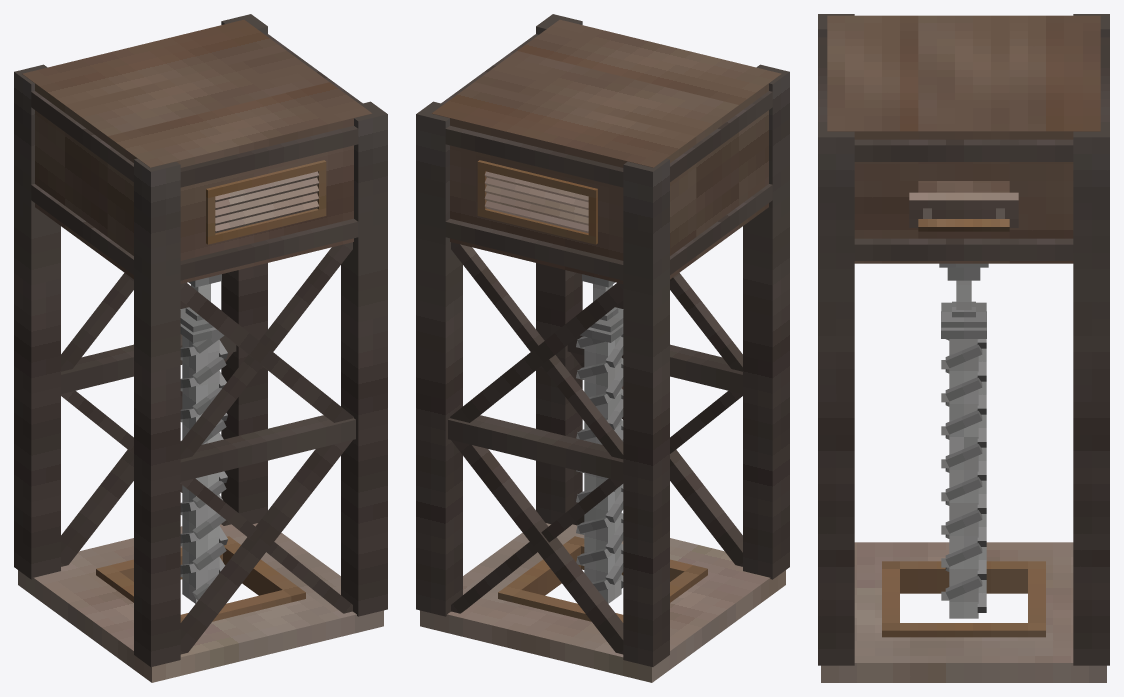
File: tiny_mining_drill.obj
3 renders of one model, left to right at view 1: azimuth 30°, elevation 25°; view 2: azimuth 150°, elevation 25°; view 3: azimuth 270°, elevation 25°, orthographic. The views are drawn at different scales.
Parts seen in each view (by area): view 1: pillarLeft1, pillarLeft0, base1, pillarRight1, ground0, base2, base0, pillarRight0, pillarLeft6, pillarLeft2, pillarLeft3, Drill0 (+22 smaller); view 2: pillarRight1, pillarRight0, base2, pillarLeft1, ground0, base1, base0, pillarLeft0, pillarRight3, pillarRight4, pillarRight6, Drill0 (+22 smaller); view 3: pillarLeft0, pillarRight0, ground0, base1, base2, base0, Drill0, support0, support1, ground3, door2, ground1 (+18 smaller).
Boxes of the visible parts, x1=… form: pillarLeft1: x1=134, y1=158, x2=180, y2=666; pillarLeft0: x1=341, y1=101, x2=387, y2=616; base1: x1=107, y1=82, x2=371, y2=283; pillarRight1: x1=14, y1=64, x2=60, y2=579; ground0: x1=18, y1=523, x2=383, y2=682; base2: x1=22, y1=19, x2=286, y2=228; base0: x1=65, y1=51, x2=329, y2=182; pillarRight0: x1=221, y1=14, x2=267, y2=524; pillarLeft6: x1=180, y1=417, x2=353, y2=654; pillarLeft2: x1=180, y1=415, x2=355, y2=481; pillarLeft3: x1=180, y1=242, x2=352, y2=459; Drill0: x1=182, y1=335, x2=219, y2=603; pillarRight1: x1=623, y1=158, x2=669, y2=666; pillarRight0: x1=416, y1=101, x2=462, y2=616; base2: x1=432, y1=82, x2=696, y2=283; pillarLeft1: x1=743, y1=64, x2=789, y2=579; ground0: x1=420, y1=523, x2=785, y2=682; base1: x1=517, y1=19, x2=781, y2=228; base0: x1=474, y1=51, x2=738, y2=182; pillarLeft0: x1=536, y1=14, x2=582, y2=524; pillarRight3: x1=450, y1=417, x2=623, y2=654; pillarRight4: x1=448, y1=415, x2=623, y2=481; pillarRight6: x1=451, y1=242, x2=623, y2=459; Drill0: x1=584, y1=335, x2=621, y2=603; pillarLeft0: x1=818, y1=122, x2=854, y2=665; pillarRight0: x1=1073, y1=122, x2=1109, y2=665; ground0: x1=821, y1=542, x2=1106, y2=682; base1: x1=827, y1=15, x2=918, y2=263; base2: x1=1009, y1=15, x2=1100, y2=263; base0: x1=918, y1=15, x2=1009, y2=180; Drill0: x1=949, y1=339, x2=978, y2=618; support0: x1=854, y1=139, x2=1073, y2=161; support1: x1=854, y1=238, x2=1073, y2=260; ground3: x1=882, y1=561, x2=1045, y2=593; door2: x1=909, y1=192, x2=1018, y2=227; ground1: x1=882, y1=623, x2=1045, y2=637.
Bounding box in the file's own units: 1.13 × 2.07 × 1.
